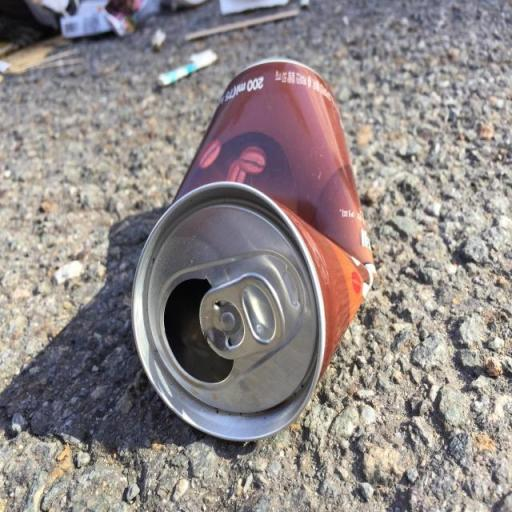metal: (114, 49, 396, 477)
